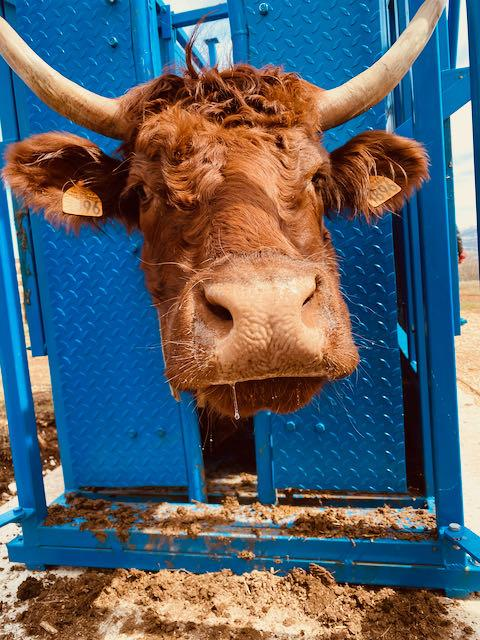muzzles: (150, 262, 361, 416)
